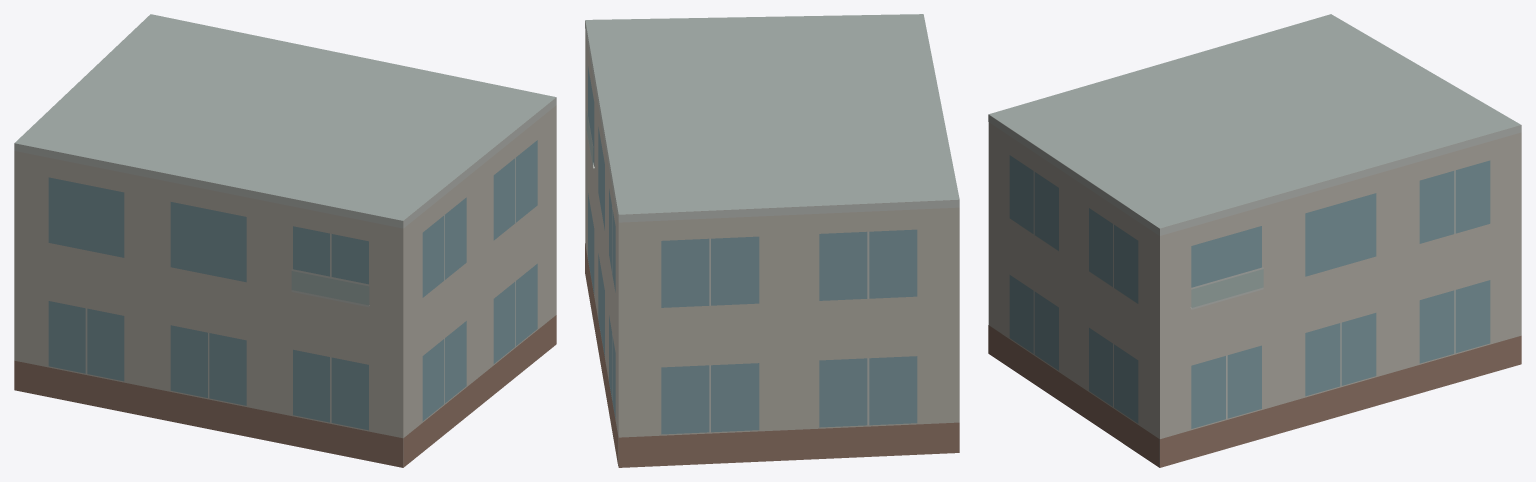
File: survey-upis-32979686.glb
The picture shows the model from 3 angles, left to right: view 1: azimuth 30°, elevation 25°; view 2: azimuth 150°, elevation 25°; view 3: azimuth 270°, elevation 25°; orthographic projection. The views are drawn at different scales.
Parts seen in each view (by area): view 1: survey-upis-32979686.tmp; view 2: survey-upis-32979686.tmp; view 3: survey-upis-32979686.tmp.
Part boxes in pixels (box(x1,y1,x2,y2)): survey-upis-32979686.tmp: box(14, 14, 556, 467); survey-upis-32979686.tmp: box(585, 14, 959, 467); survey-upis-32979686.tmp: box(988, 14, 1521, 467).
Bounding box in the file's own units: 15.01 × 7.8 × 15.76.
